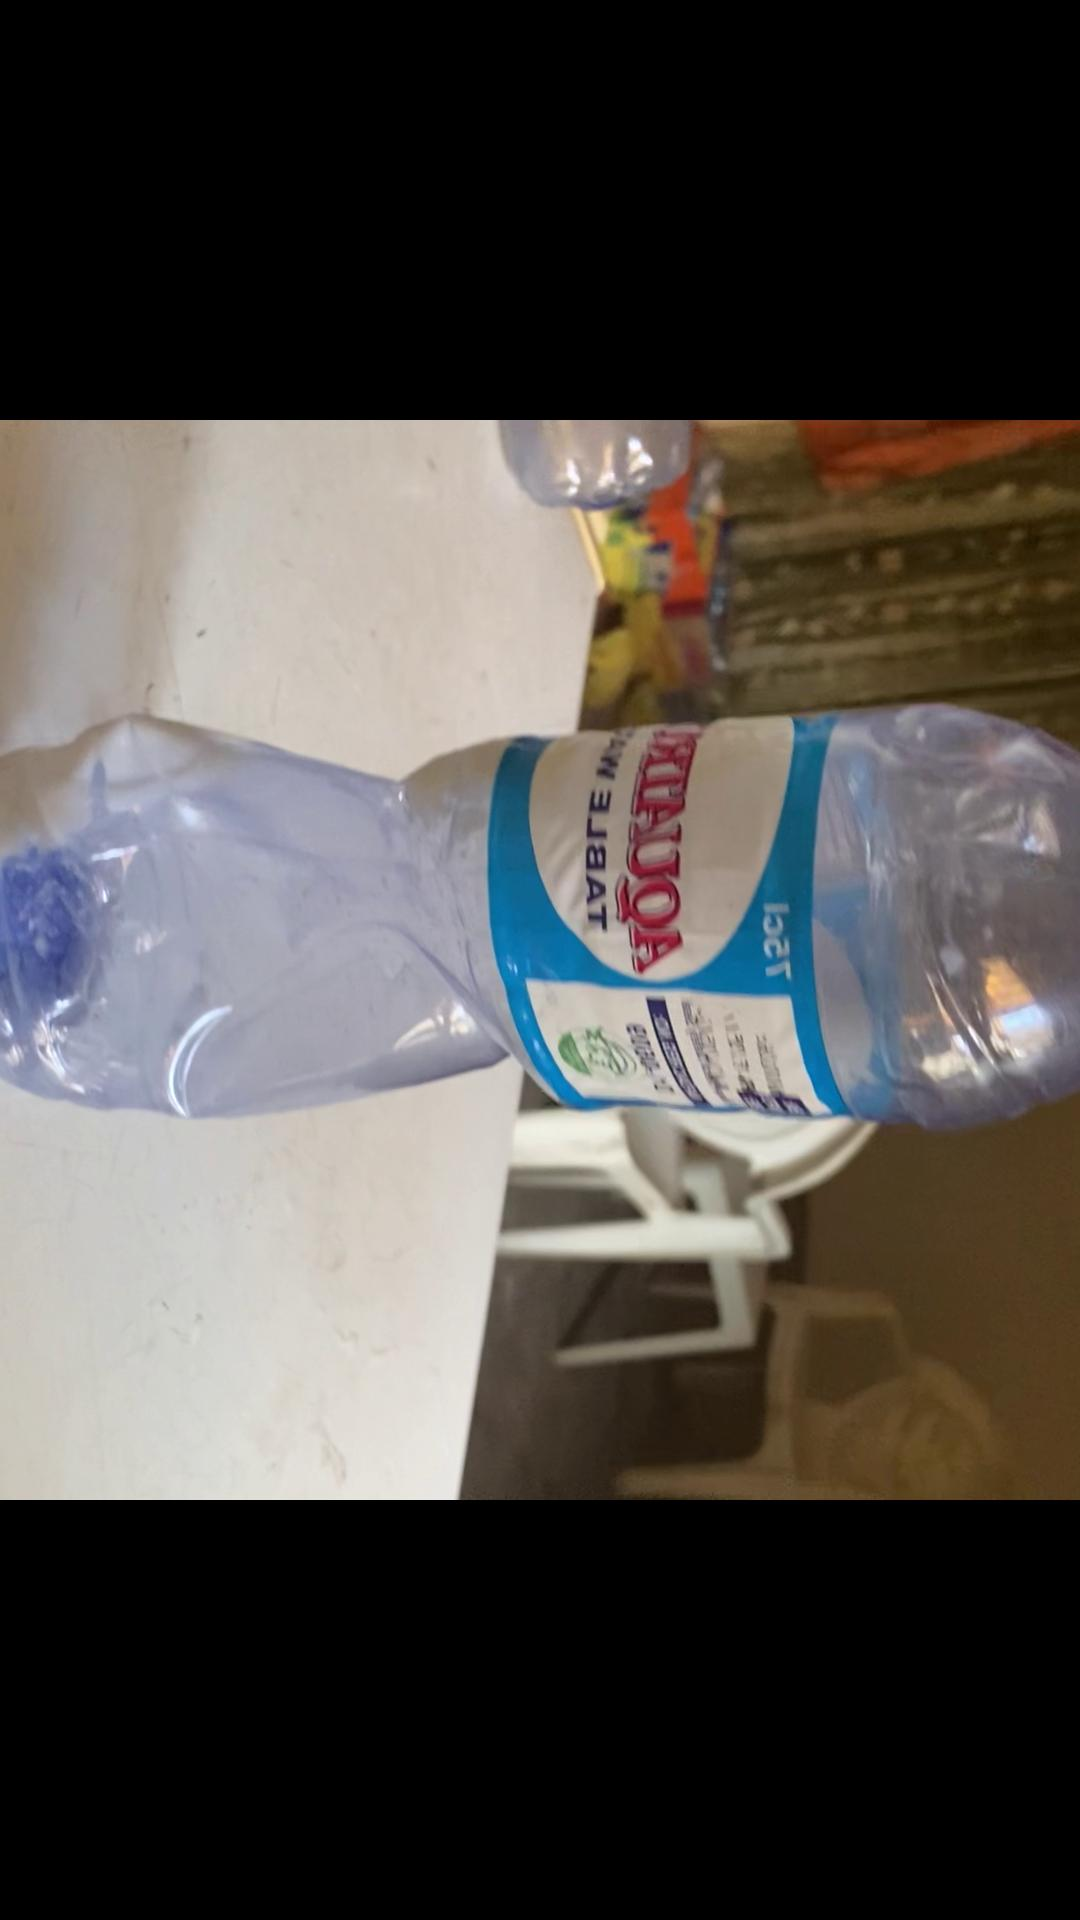crumbled: (0, 688, 1080, 1139)
label: (492, 716, 832, 1113)
